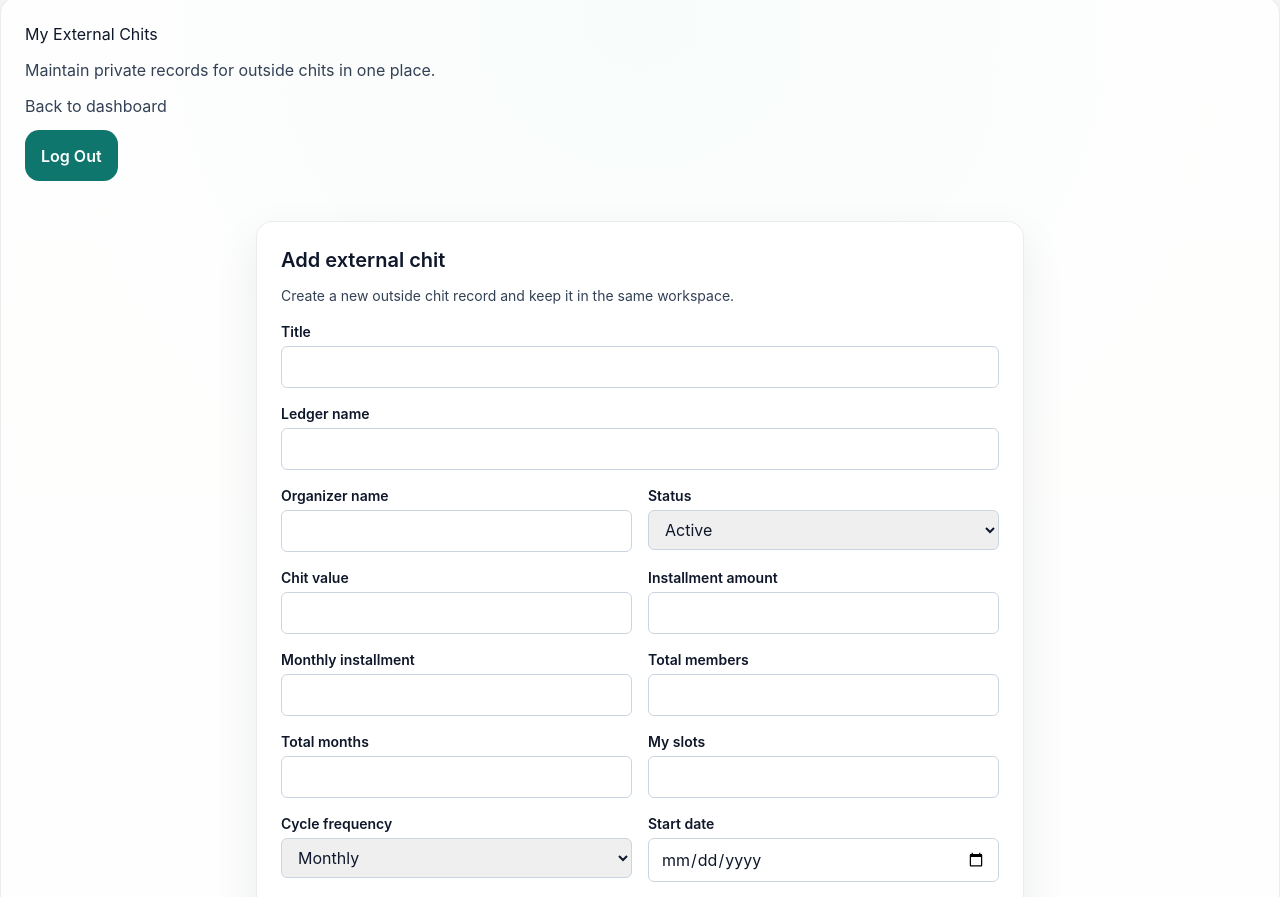
Test case: creates a new external chit and keeps the selected chit and success state updated
Expected: the heading "Add external chit" is shown, [281,248,445,272]
In the field labelled "Title": point(640, 367) [281,346,999,388], type "Temple Chit"
In the field labelled "Organizer name": point(456, 531) [281,510,632,552], type "Ravi"
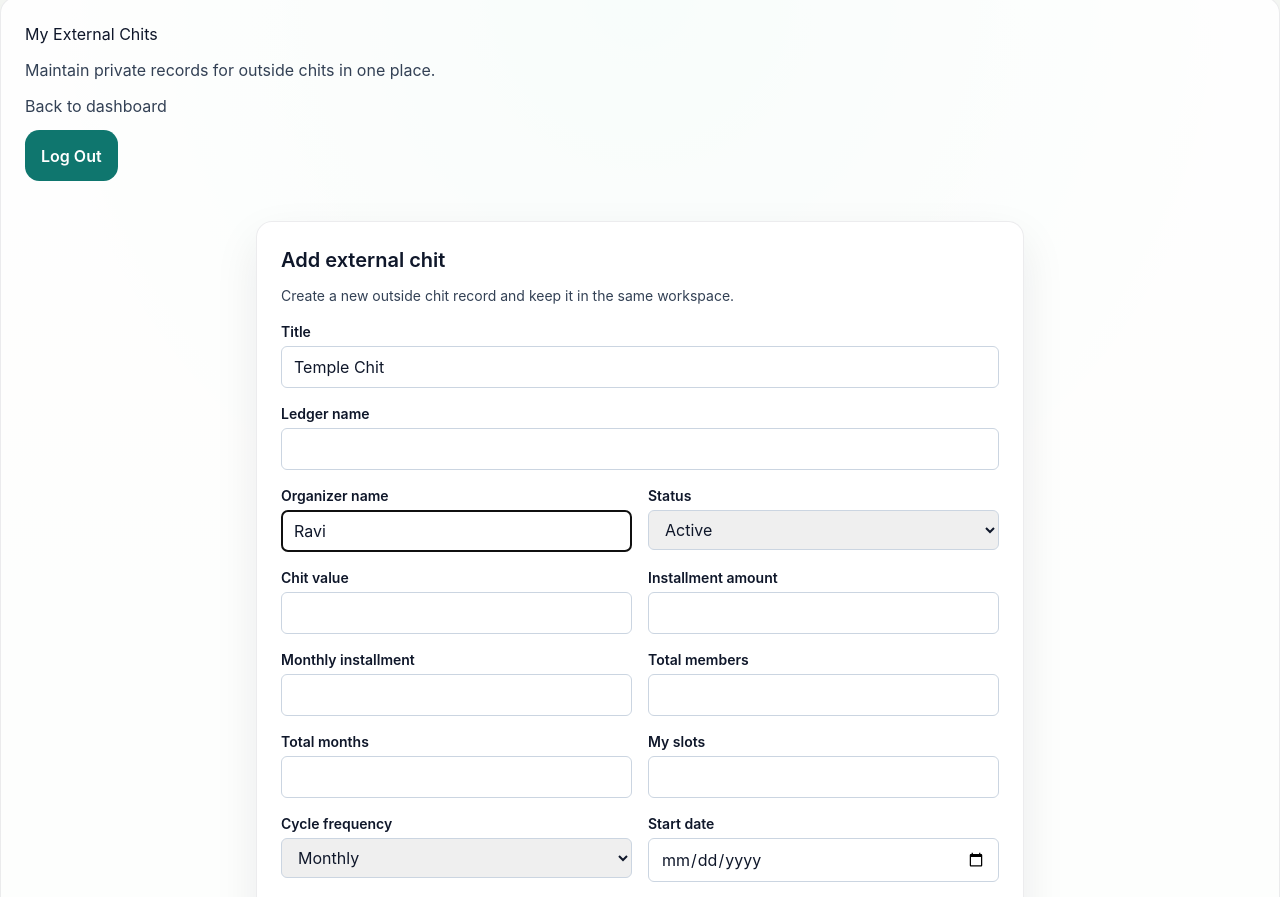
In the number field labelled "Chit value": point(456, 613) [281,592,632,634], type "150000"
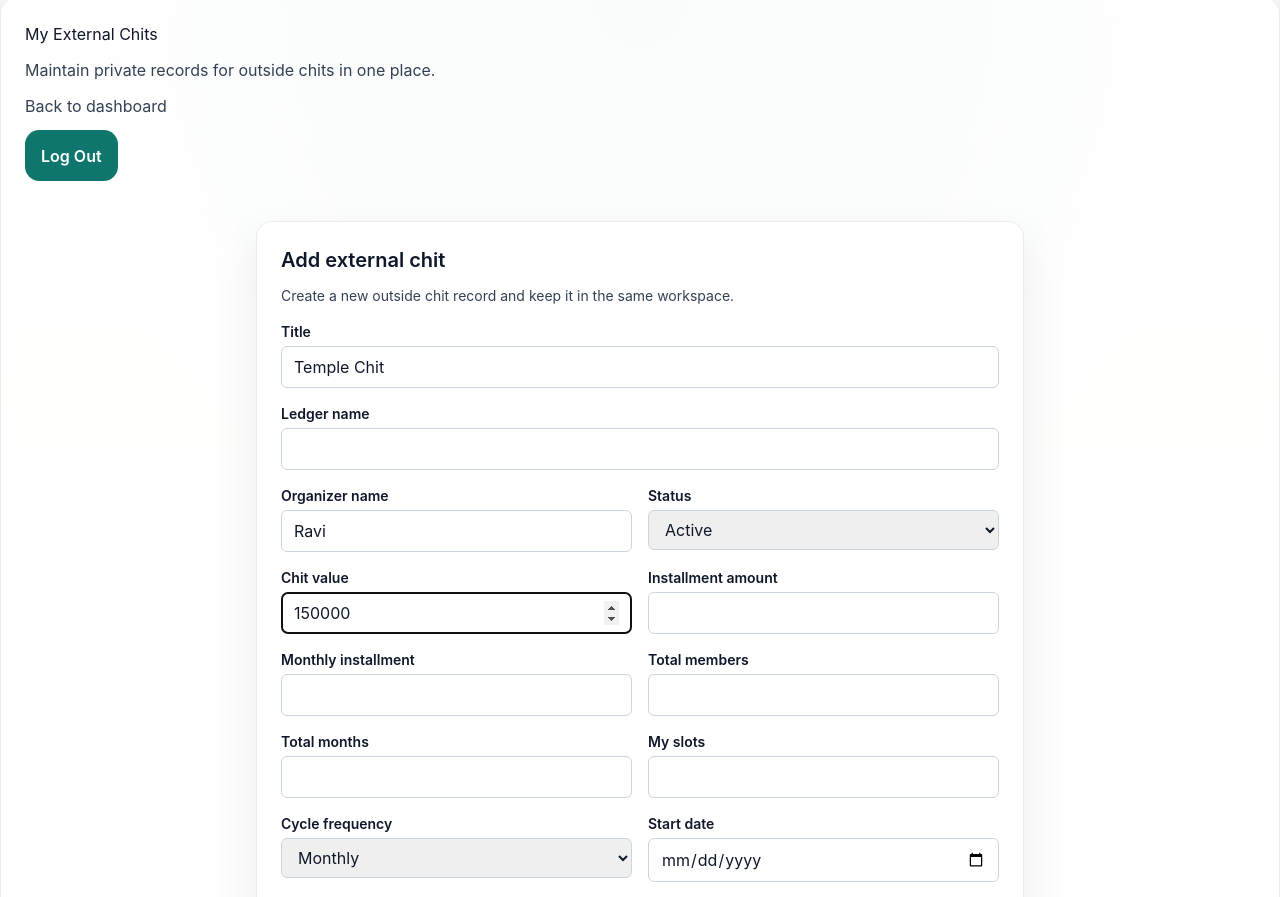
In the number field labelled "Installment amount": point(824, 613) [648,592,999,634], type "7500"
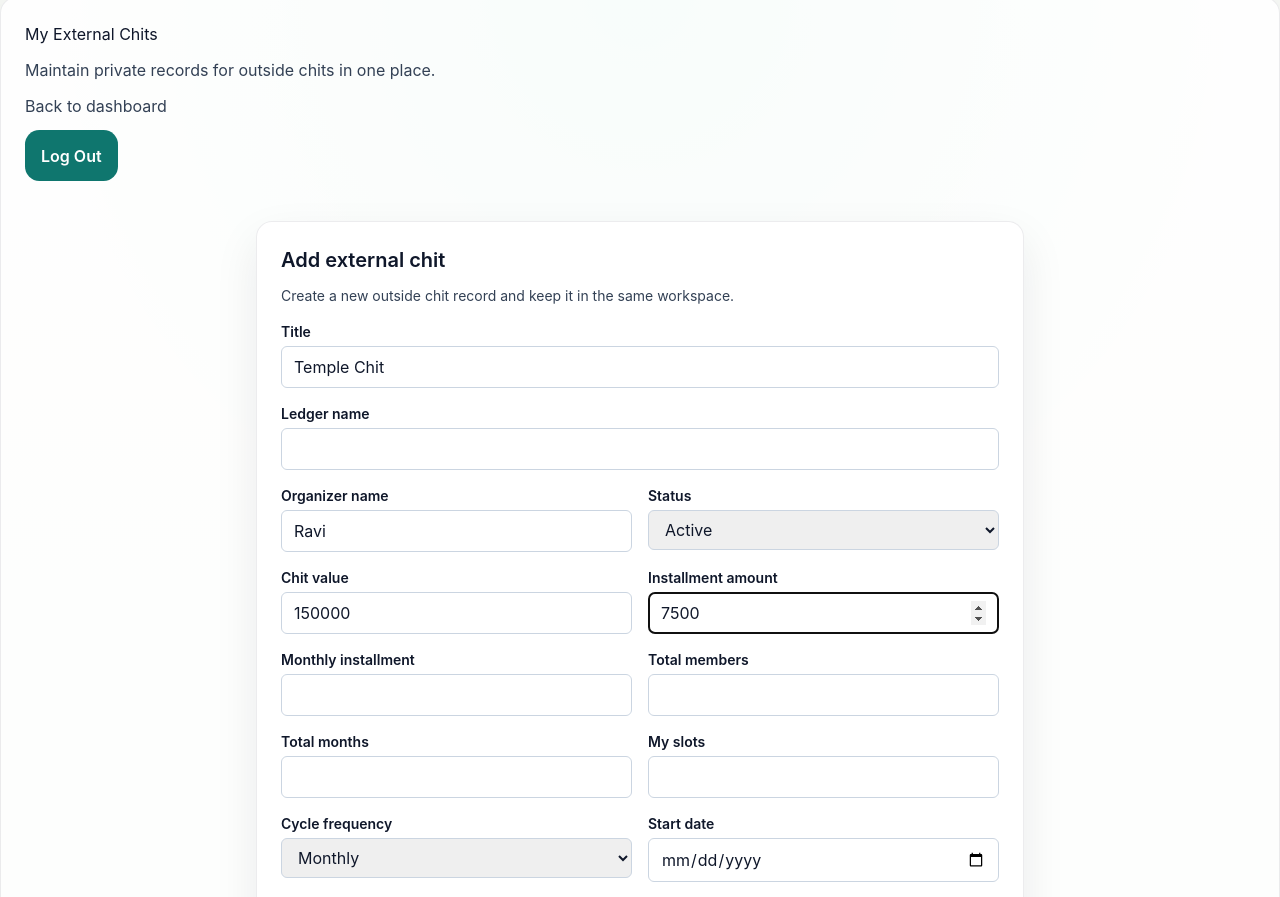
Select "Monthly" in the dropdown labelled "Cycle frequency": point(456, 858) [281,838,632,878]
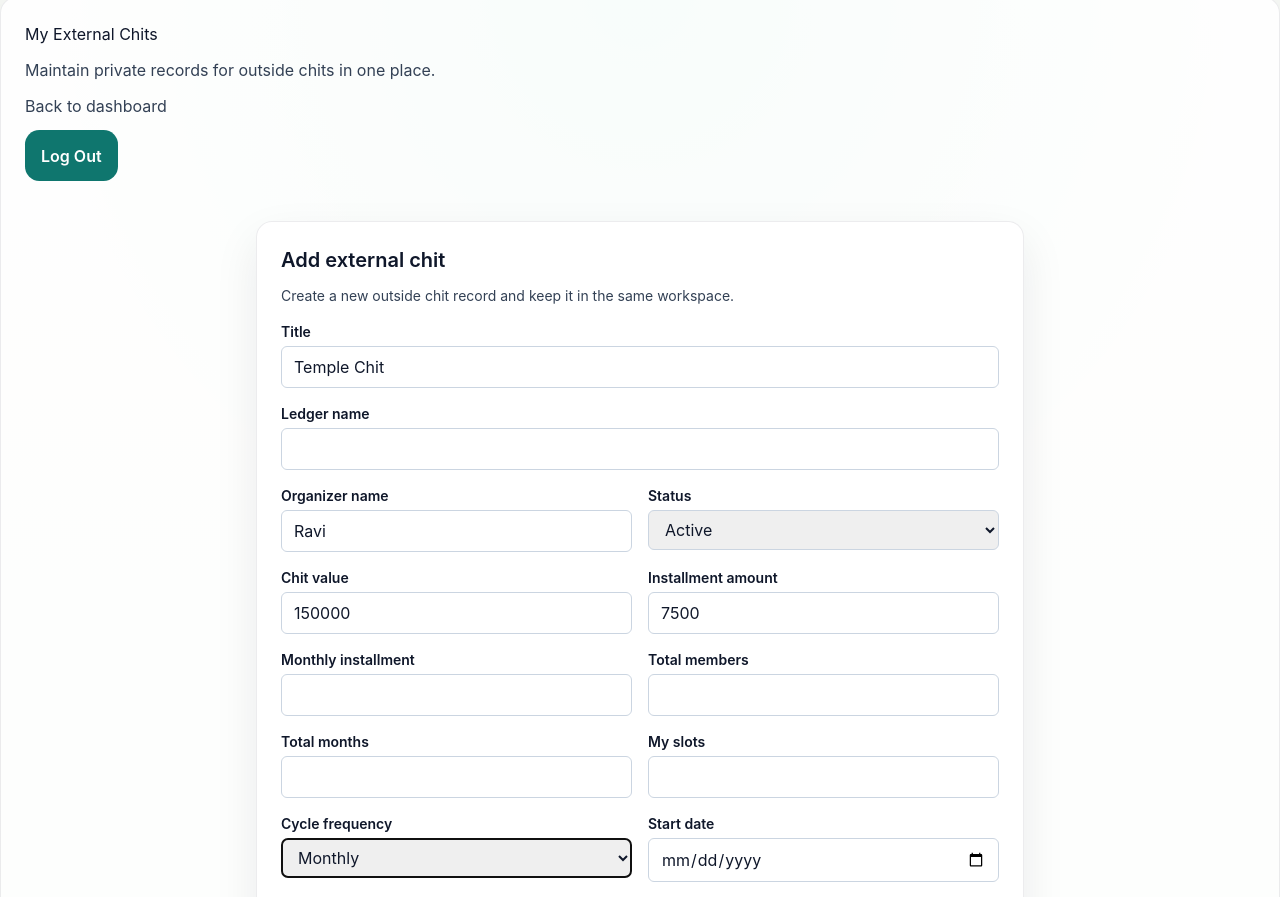
In the date field labelled "Start date": point(824, 860) [648,838,999,882], type "2026-05-01"
(page scrolled)
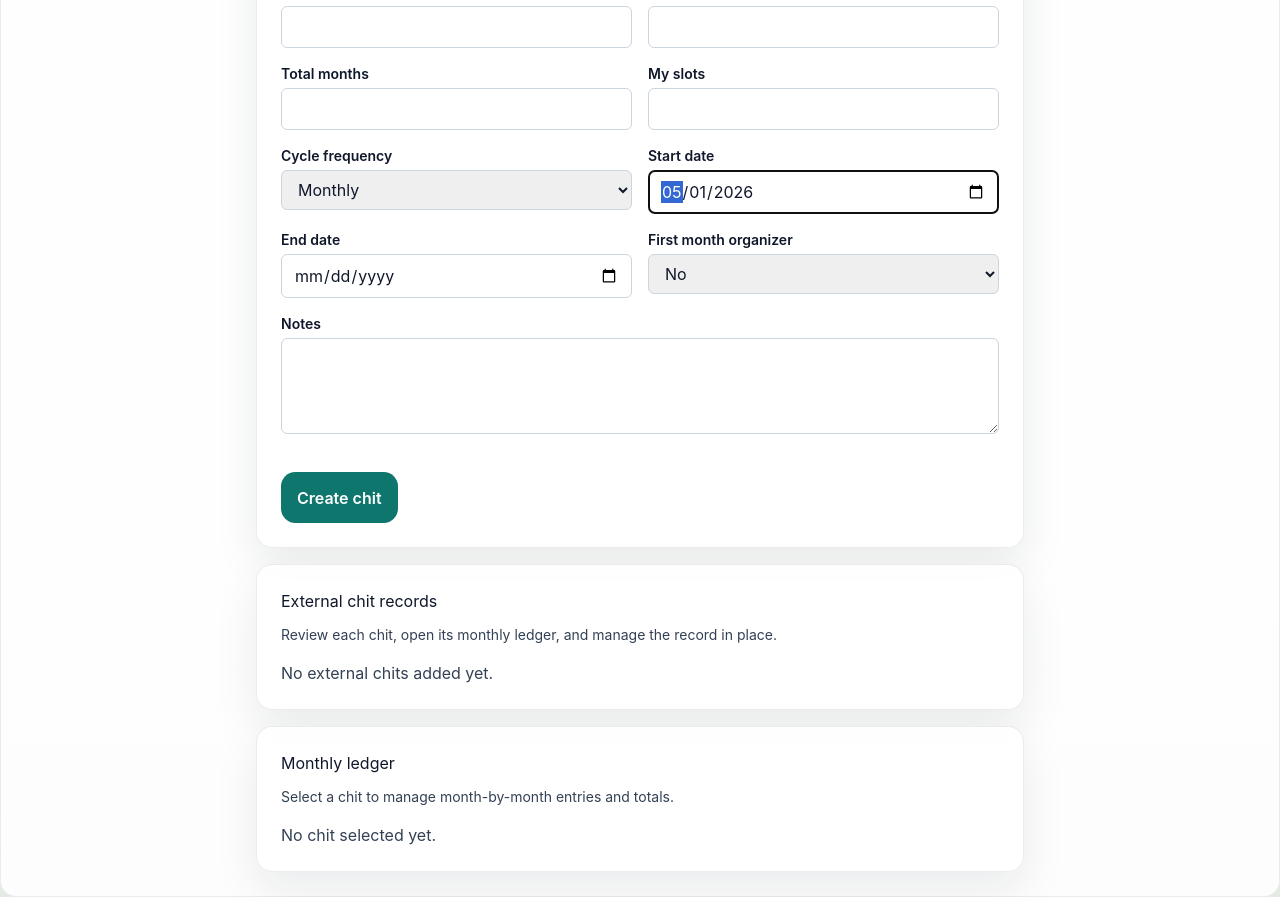
Click the button "Create chit": point(339, 498) [281,472,398,523]
(page scrolled)
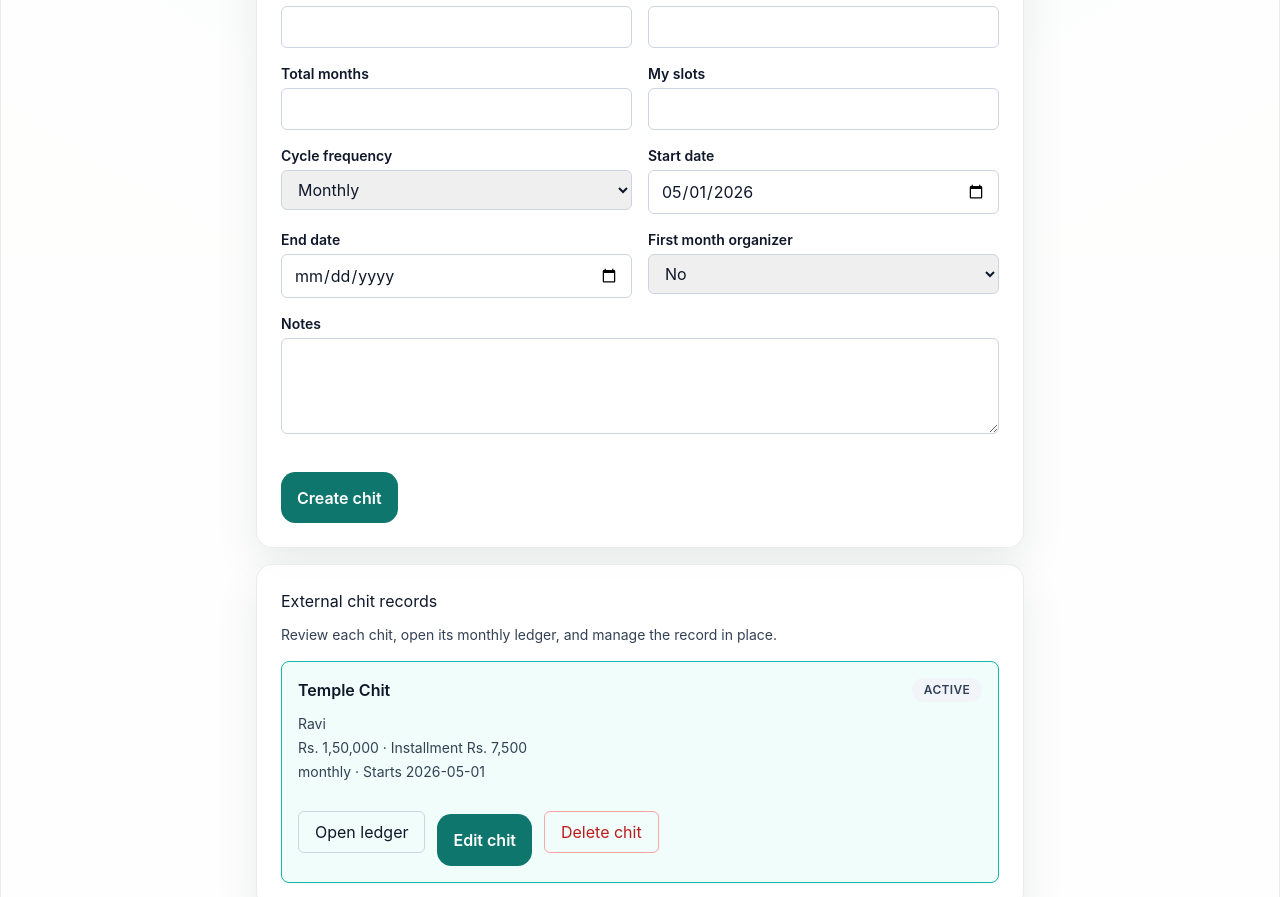
Result: the heading "Temple Chit" is shown at [298,680,390,700]
